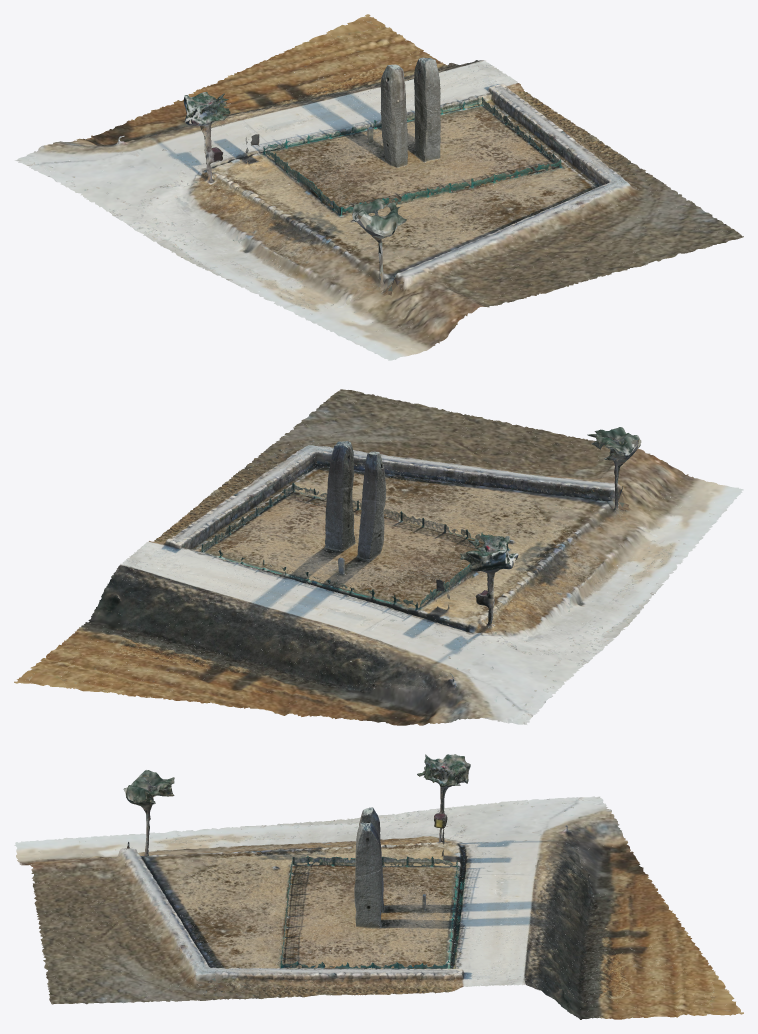
File: gulsan.glb
The picture shows the model from 3 angles, top to bottom: view 1: azimuth 30°, elevation 25°; view 2: azimuth 150°, elevation 25°; view 3: azimuth 270°, elevation 25°; orthographic projection. The views are drawn at different scales.
Parts seen in each view (by area): view 1: Stereo textured mesh, Stereo textured mesh_Material0_0.001, Stereo textured mesh_Material0_0.002, Stereo textured mesh_Material0_0.003; view 2: Stereo textured mesh, Stereo textured mesh_Material0_0.001, Stereo textured mesh_Material0_0.002, Stereo textured mesh_Material0_0.003; view 3: Stereo textured mesh, Stereo textured mesh_Material0_0.001, Stereo textured mesh_Material0_0.002, Stereo textured mesh_Material0_0.003.
Boxes of the visible parts, x1,y1,x2,y2 form: Stereo textured mesh: [14, 38, 741, 302]; Stereo textured mesh_Material0_0.001: [84, 16, 743, 360]; Stereo textured mesh_Material0_0.002: [27, 14, 734, 343]; Stereo textured mesh_Material0_0.003: [56, 25, 727, 349]; Stereo textured mesh: [80, 389, 669, 725]; Stereo textured mesh_Material0_0.001: [17, 389, 743, 714]; Stereo textured mesh_Material0_0.002: [14, 390, 716, 723]; Stereo textured mesh_Material0_0.003: [29, 398, 709, 718]; Stereo textured mesh: [33, 754, 714, 1004]; Stereo textured mesh_Material0_0.001: [14, 754, 740, 1019]; Stereo textured mesh_Material0_0.002: [20, 758, 743, 1017]; Stereo textured mesh_Material0_0.003: [28, 765, 727, 1018].
Bounding box in the file's own units: 26.08 × 7.18 × 36.23.
Materials: 1 (1 with a texture image).
